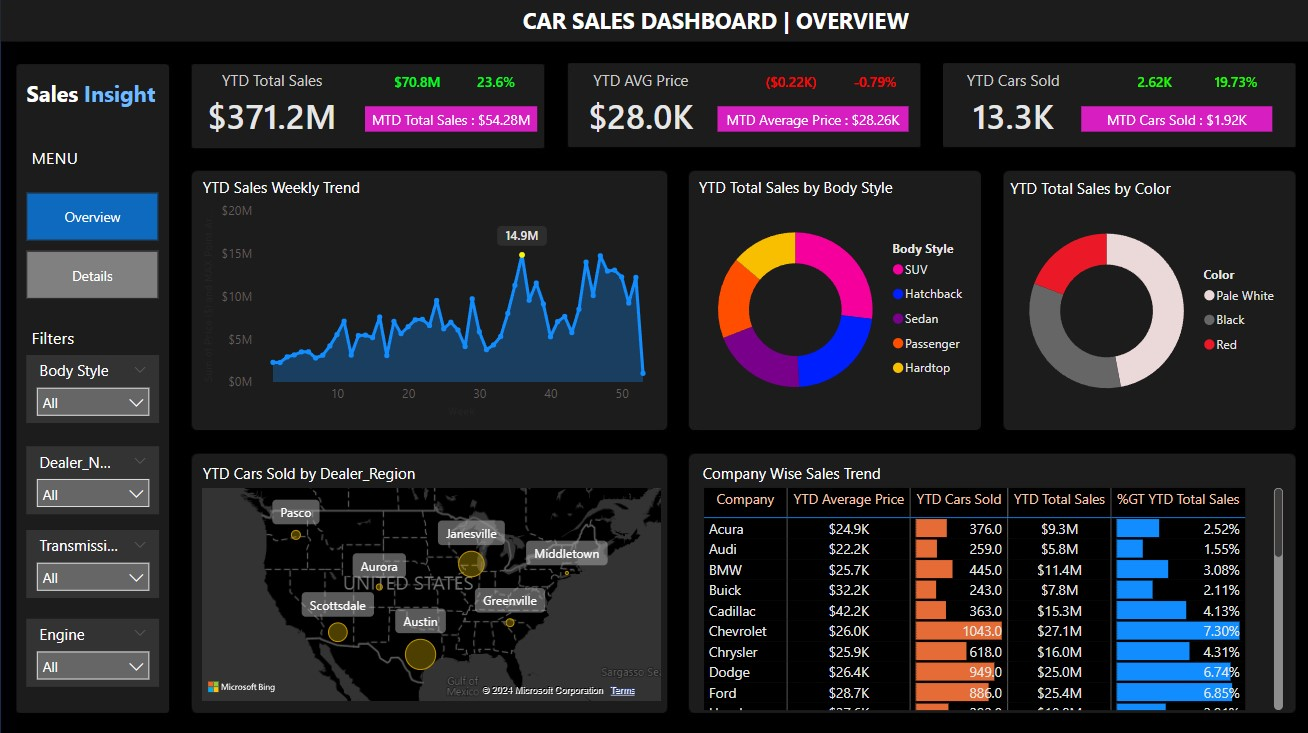

The dashboard page shown, as its layout file describes it:
{"tool":"powerbi","page":{"name":"Overview","canvas":[1280,720],"ordinal":0},"visuals":[{"type":"card","title":"YTD Total Sales","fields":{"Values":["car_data.YTD Total Sales"]},"box":[192.6,67.9,145.7,70.4],"z":0},{"type":"card","fields":{"Values":["car_data.Sales Difference"]},"box":[374.1,67.9,65.4,25.9],"z":1000},{"type":"card","fields":{"Values":["car_data.YoY Sales Growth"]},"box":[450.6,67.9,65.4,25.9],"z":2000},{"type":"card","fields":{"Values":["car_data.MTD KPI"]},"box":[355.6,103.7,167.9,24.7],"z":3000},{"type":"card","title":"YTD AVG Price","fields":{"Values":["car_data.YTD Average Price"]},"box":[559.3,67.9,130.9,70.4],"z":4000},{"type":"card","fields":{"Values":["car_data.Average Price Difference"]},"box":[739.5,67.9,65.4,25.9],"z":5000},{"type":"card","fields":{"Values":["car_data.YOY Average Price Growth"]},"box":[821,67.9,65.4,25.9],"z":6000},{"type":"card","fields":{"Values":["car_data.MTD Average Price KPI"]},"box":[700,103.7,186.4,24.7],"z":7000},{"type":"card","title":"YTD Cars Sold","fields":{"Values":["car_data.YTD Cars Sold"]},"box":[923.5,67.9,130.9,70.4],"z":8000},{"type":"card","fields":{"Values":["car_data.Cars Sold Difference"]},"box":[1093.8,67.9,65.4,25.9],"z":9000},{"type":"card","fields":{"Values":["car_data.YOY Cars Sold Growth"]},"box":[1172.8,67.9,65.4,25.9],"z":10000},{"type":"card","fields":{"Values":["car_data.MTD Cars Sold KPI"]},"box":[1054.3,103.7,186.4,24.7],"z":11000},{"type":"areaChart","title":"YTD Sales Weekly Trend","fields":{"Category":["Calender Table.Week"],"Y":["Sum(car_data.Price ($))","car_data.MAX Point Area Chart"]},"box":[192.6,171.6,456.8,240.7],"z":12000},{"type":"donutChart","fields":{"Category":["car_data.Body Style"],"Y":["car_data.YTD Total Sales"]},"box":[676.5,171.6,276.5,240.7],"z":13000},{"type":"donutChart","fields":{"Y":["car_data.YTD Total Sales"],"Category":["car_data.Color"]},"box":[980.2,172.8,276.5,240.7],"z":14000},{"type":"map","fields":{"Category":["car_data.Dealer_Region"],"Size":["car_data.YTD Cars Sold"]},"box":[192.6,450.6,456.8,238.3],"z":15000},{"type":"tableEx","title":"Company Wise Sales Trend","fields":{"Values":["car_data.Company","car_data.YTD Average Price","car_data.YTD Cars Sold","car_data.YTD Total Sales1","car_data.YTD Total Sales"]},"box":[680.2,450.6,576.5,246.9],"z":16000},{"type":"textbox","box":[504.7,0,403.1,40.6],"z":17000},{"type":"slicer","fields":{"Values":["car_data.Body Style"]},"box":[25.7,345.9,129.7,66.2],"z":18000},{"type":"slicer","fields":{"Values":["car_data.Dealer_Name"]},"box":[25.7,435.1,129.7,66.2],"z":19000},{"type":"slicer","fields":{"Values":["car_data.Transmission"]},"box":[25.7,517.6,129.7,66.2],"z":20000},{"type":"slicer","fields":{"Values":["car_data.Engine"]},"box":[25.7,604.1,129.7,66.2],"z":21000},{"type":"textbox","box":[25.7,313.5,64.9,32.4],"z":22000},{"type":"textbox","box":[20.3,71.9,148.4,43.8],"z":23000},{"type":"textbox","box":[25,137.5,70.3,34.4],"z":23001},{"type":"pageNavigator","box":[25,187.5,129.7,104.7],"z":23002}]}

Visuals, with their boxes in screenshot pixels (x1, y1, x2, y2), scaled from the page's 1280x720 canvas onto the 1308x733 screenshot:
"YTD Total Sales" card: (left=197, top=69, right=346, bottom=141)
card - car_data.Sales Difference: (left=382, top=69, right=449, bottom=95)
card - car_data.YoY Sales Growth: (left=460, top=69, right=527, bottom=95)
card - car_data.MTD KPI: (left=363, top=106, right=535, bottom=131)
"YTD AVG Price" card: (left=572, top=69, right=705, bottom=141)
card - car_data.Average Price Difference: (left=756, top=69, right=823, bottom=95)
card - car_data.YOY Average Price Growth: (left=839, top=69, right=906, bottom=95)
card - car_data.MTD Average Price KPI: (left=715, top=106, right=906, bottom=131)
"YTD Cars Sold" card: (left=944, top=69, right=1077, bottom=141)
card - car_data.Cars Sold Difference: (left=1118, top=69, right=1185, bottom=95)
card - car_data.YOY Cars Sold Growth: (left=1198, top=69, right=1265, bottom=95)
card - car_data.MTD Cars Sold KPI: (left=1077, top=106, right=1268, bottom=131)
"YTD Sales Weekly Trend" areaChart: (left=197, top=175, right=664, bottom=420)
donutChart - car_data.Body Style x car_data.YTD Total Sales: (left=691, top=175, right=974, bottom=420)
donutChart - car_data.YTD Total Sales x car_data.Color: (left=1002, top=176, right=1284, bottom=421)
map - car_data.Dealer_Region x car_data.YTD Cars Sold: (left=197, top=459, right=664, bottom=701)
"Company Wise Sales Trend" tableEx: (left=695, top=459, right=1284, bottom=710)
textbox: (left=516, top=0, right=928, bottom=41)
slicer - car_data.Body Style: (left=26, top=352, right=159, bottom=420)
slicer - car_data.Dealer_Name: (left=26, top=443, right=159, bottom=510)
slicer - car_data.Transmission: (left=26, top=527, right=159, bottom=594)
slicer - car_data.Engine: (left=26, top=615, right=159, bottom=682)
textbox: (left=26, top=319, right=93, bottom=352)
textbox: (left=21, top=73, right=172, bottom=118)
textbox: (left=26, top=140, right=97, bottom=175)
pageNavigator: (left=26, top=191, right=158, bottom=297)
